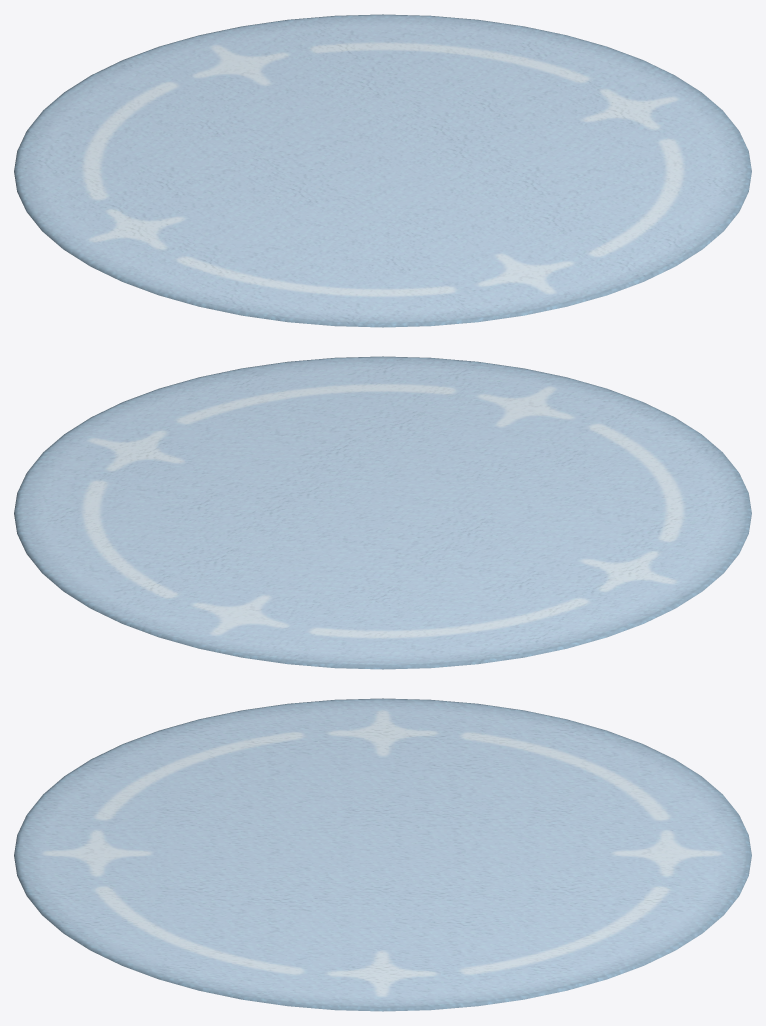
3 renders of one model, top to bottom at view 1: azimuth 30°, elevation 25°; view 2: azimuth 150°, elevation 25°; view 3: azimuth 270°, elevation 25°, orthographic.
Parts seen in each view (by area): view 1: 720092_1001_yuanditan_model_0; view 2: 720092_1001_yuanditan_model_0; view 3: 720092_1001_yuanditan_model_0.
Part boxes in pixels (box(x1,y1,x2,y2)): 720092_1001_yuanditan_model_0: box(14, 14, 751, 327); 720092_1001_yuanditan_model_0: box(14, 356, 751, 669); 720092_1001_yuanditan_model_0: box(14, 698, 751, 1011).
Bounding box in the file's own units: 5.88 × 0.0188 × 5.88.
Materials: 1 (1 with a texture image).
